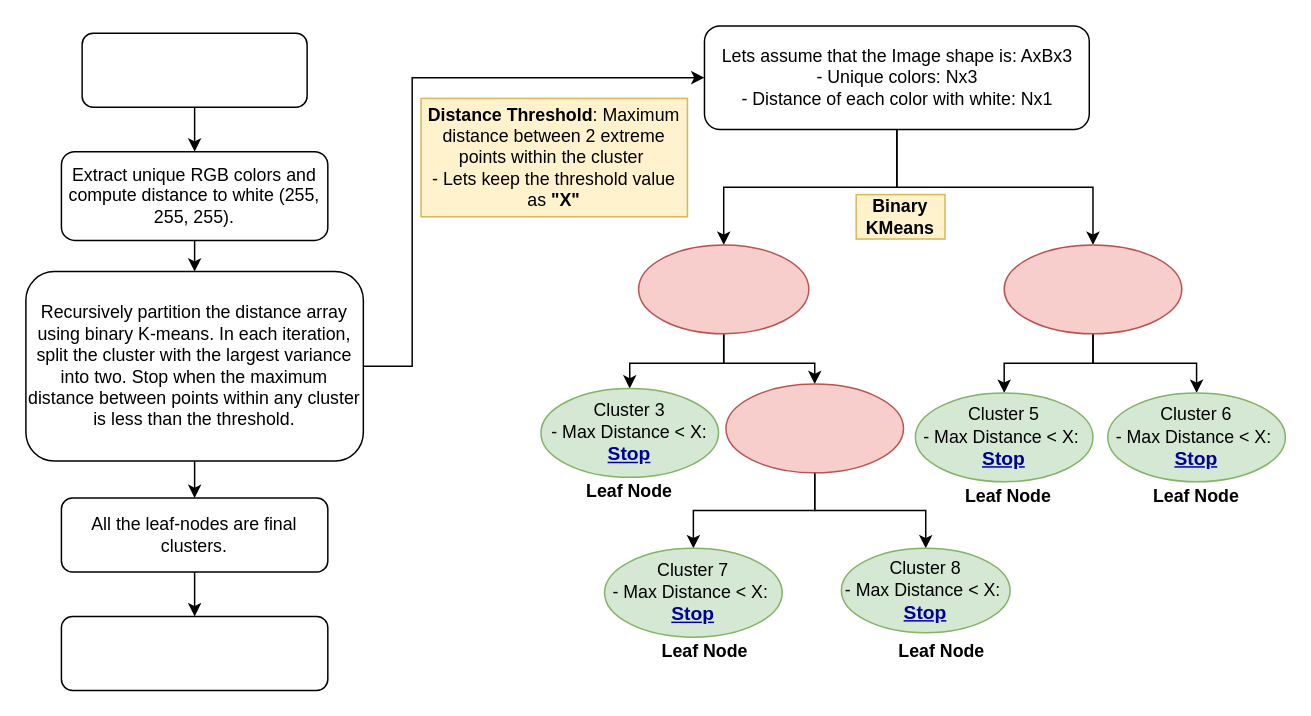
This 1311x716 diagram has some shape labels left out. Each missing label, with the centre of its shape:
"Cluster 1 - Max Distance > X: Re-Cluster" belongs at [723,288].
"Cluster 2 - Max Distance > X: Re-Cluster" belongs at [1092,288].
"Cluster 4 - Max Distance > X: Re-Cluster" belongs at [814,428].
"Determine a representative color for each final cluster." belongs at [194,652].
"Input Image (RGB pixel data)" belongs at [194,69].
